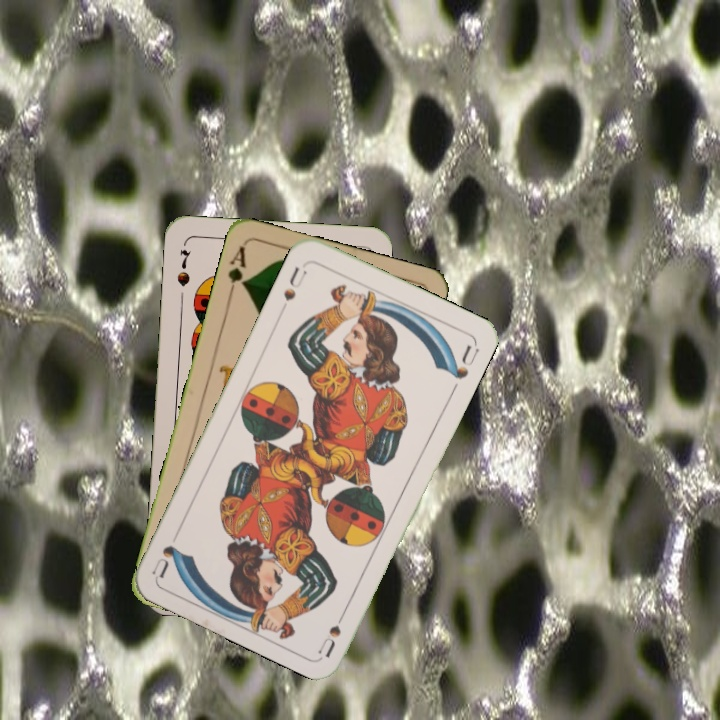GA: (223, 242, 249, 300)
S7: (173, 245, 193, 289)
SU: (314, 601, 351, 658), (276, 263, 310, 315)
